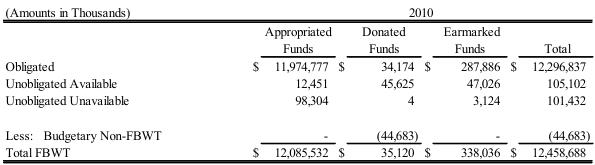table: (4, 4, 589, 159)
table column: (4, 4, 206, 159), (206, 4, 334, 159), (334, 4, 420, 159), (504, 4, 589, 159), (420, 4, 504, 159)
table column header: (4, 4, 589, 56)
table row: (4, 20, 589, 56), (4, 91, 589, 117), (4, 117, 589, 143), (4, 73, 589, 91), (4, 56, 589, 73), (4, 4, 589, 20), (4, 143, 589, 159)
table spanning cell: (206, 4, 589, 20)
